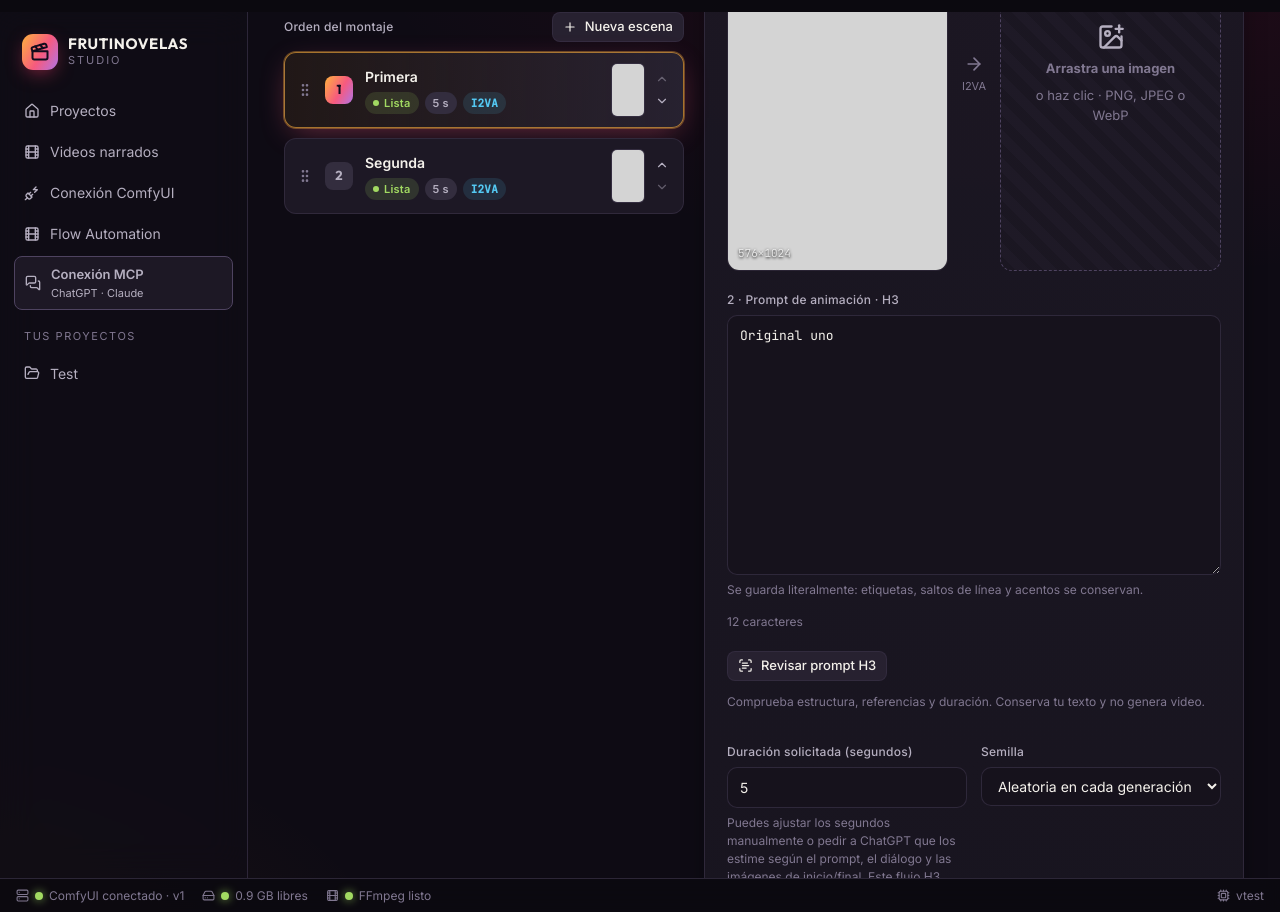
recovering a stale queue refreshes jobs and keeps unsaved prompts
The width and height of the screenshot is (1280, 912).
(page scrolled)
Replace the text in the text box showing "Original uno" with "Mi diálogo sin guardar: «¡Niños a salvo!»" at (974, 445), box [727,315,1221,575]
(page scrolled)
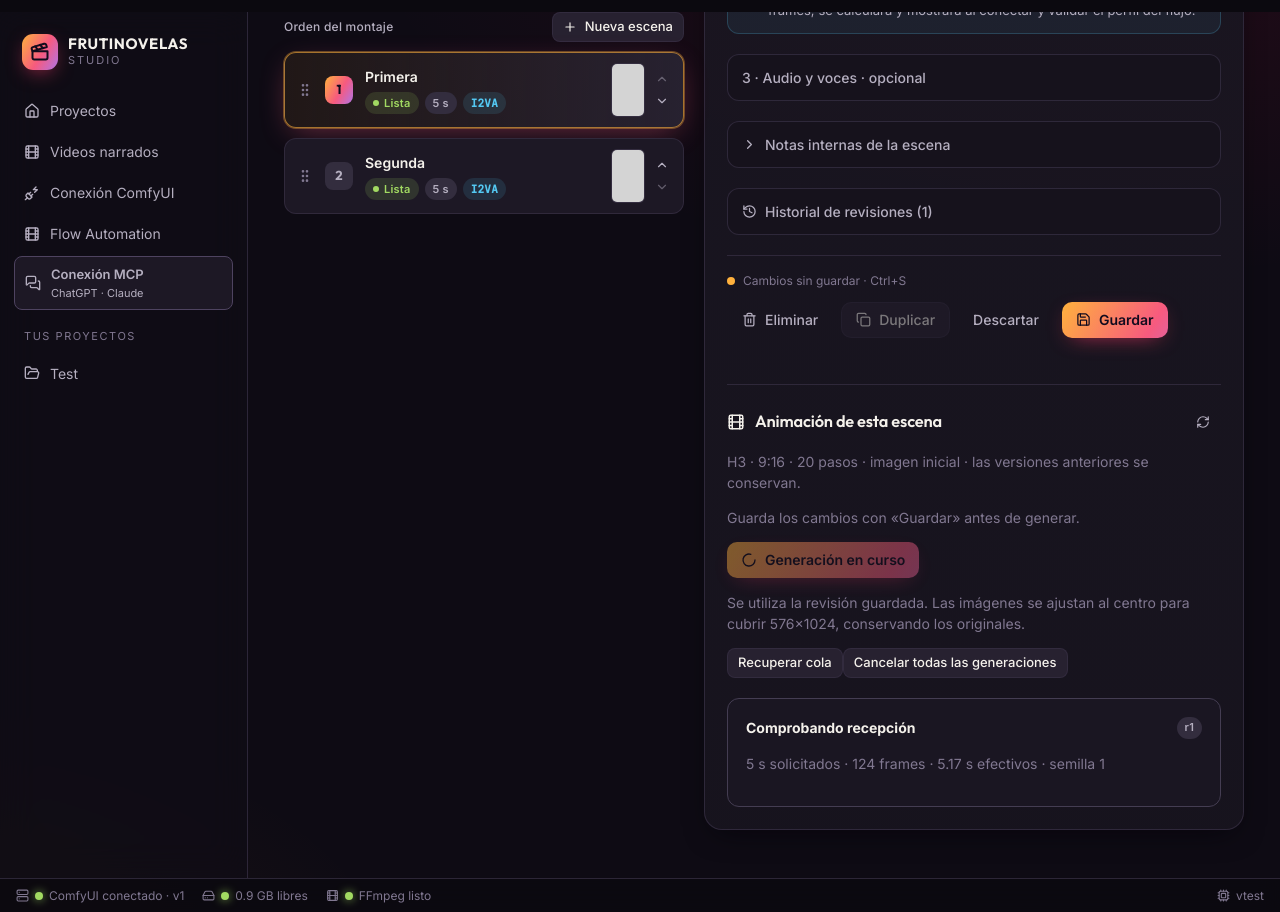
Click the button "Recuperar cola" at (785, 663), box [727,648,843,678]
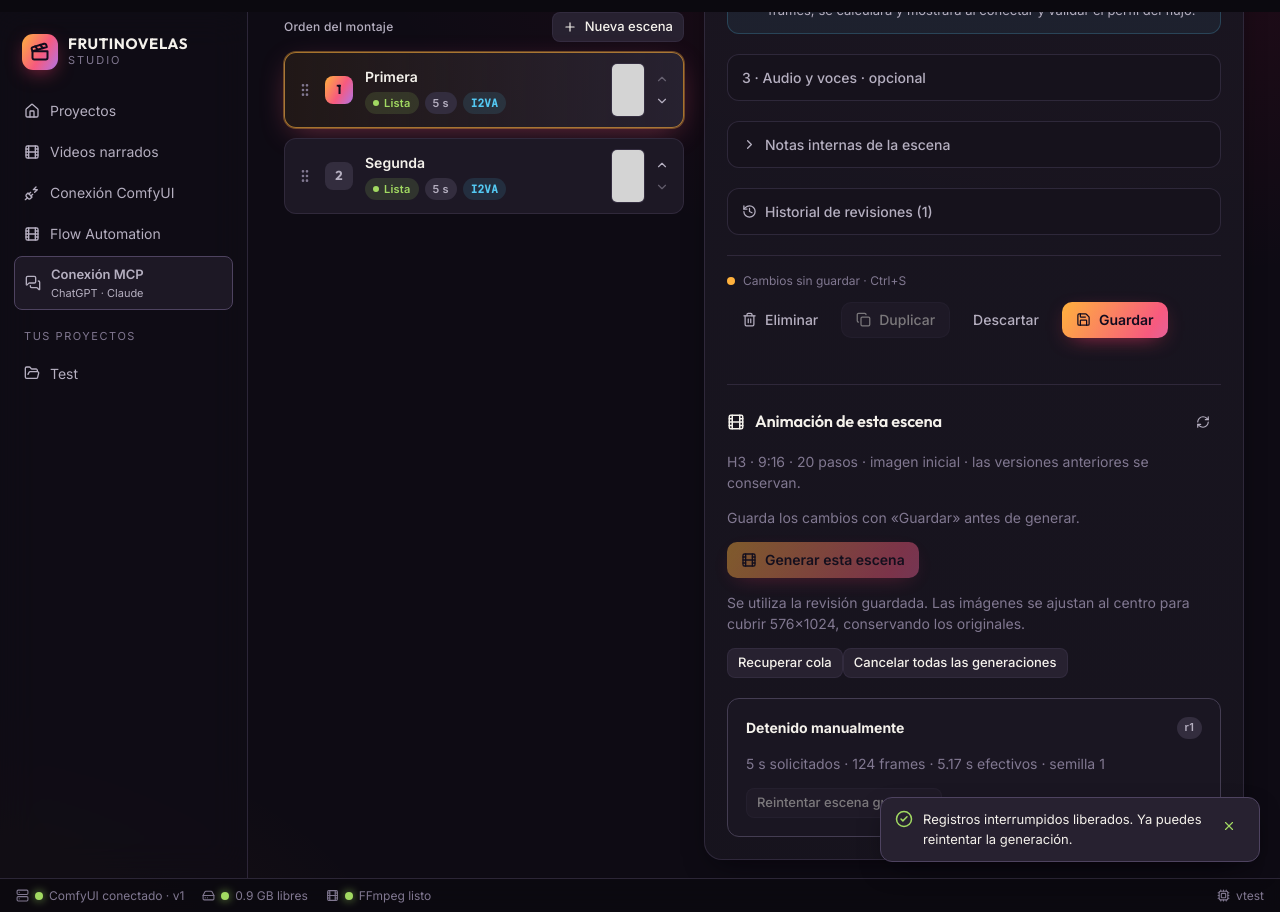
Expected: the button with id "btn-generate-scene" is disabled, [727,542,919,578]
Expected: the button "Reintentar escena guardada" is shown, [746,788,942,818]
